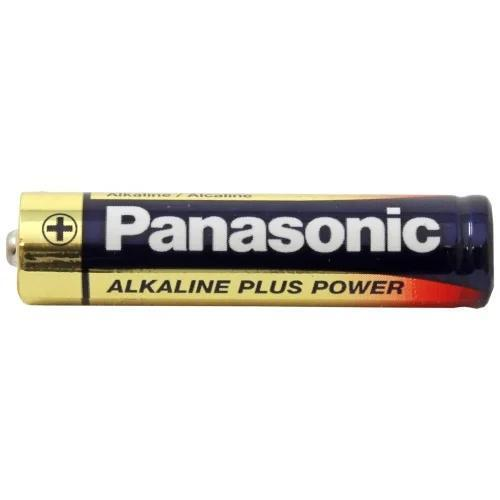AA: (1, 188, 497, 311)
